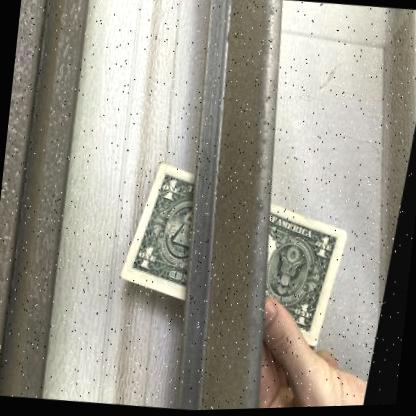one-back: (124, 160, 353, 349)
